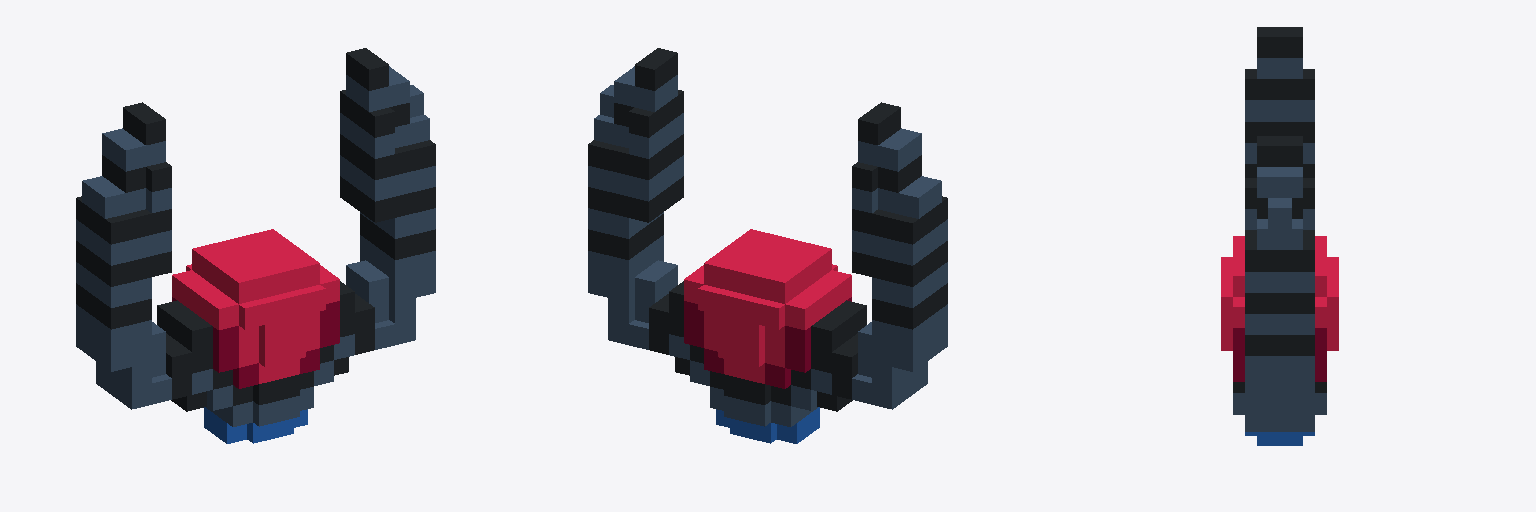
The model's file is PirateShip.obj.
3 renders of one model, left to right at view 1: azimuth 30°, elevation 25°; view 2: azimuth 150°, elevation 25°; view 3: azimuth 270°, elevation 25°, orthographic.
Bounding box in the file's own units: 16 × 16 × 5.